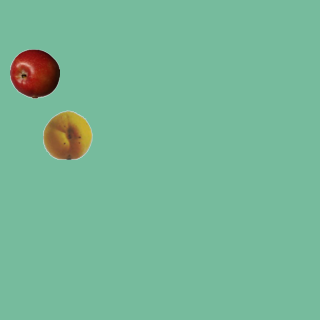Apple Braeburn: (9, 48, 59, 98)
Peach 2: (42, 109, 92, 159)
